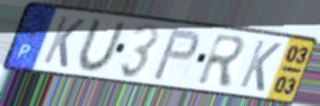3: (118, 22, 165, 80)
K: (40, 14, 88, 70), (237, 38, 284, 94)
P: (150, 28, 202, 82)
R: (195, 32, 250, 89)
U: (76, 18, 128, 74)
